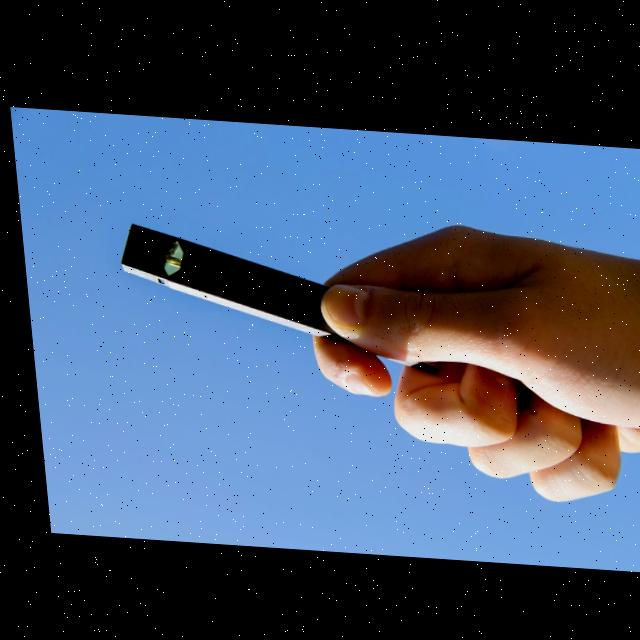vape: (114, 221, 339, 336)
